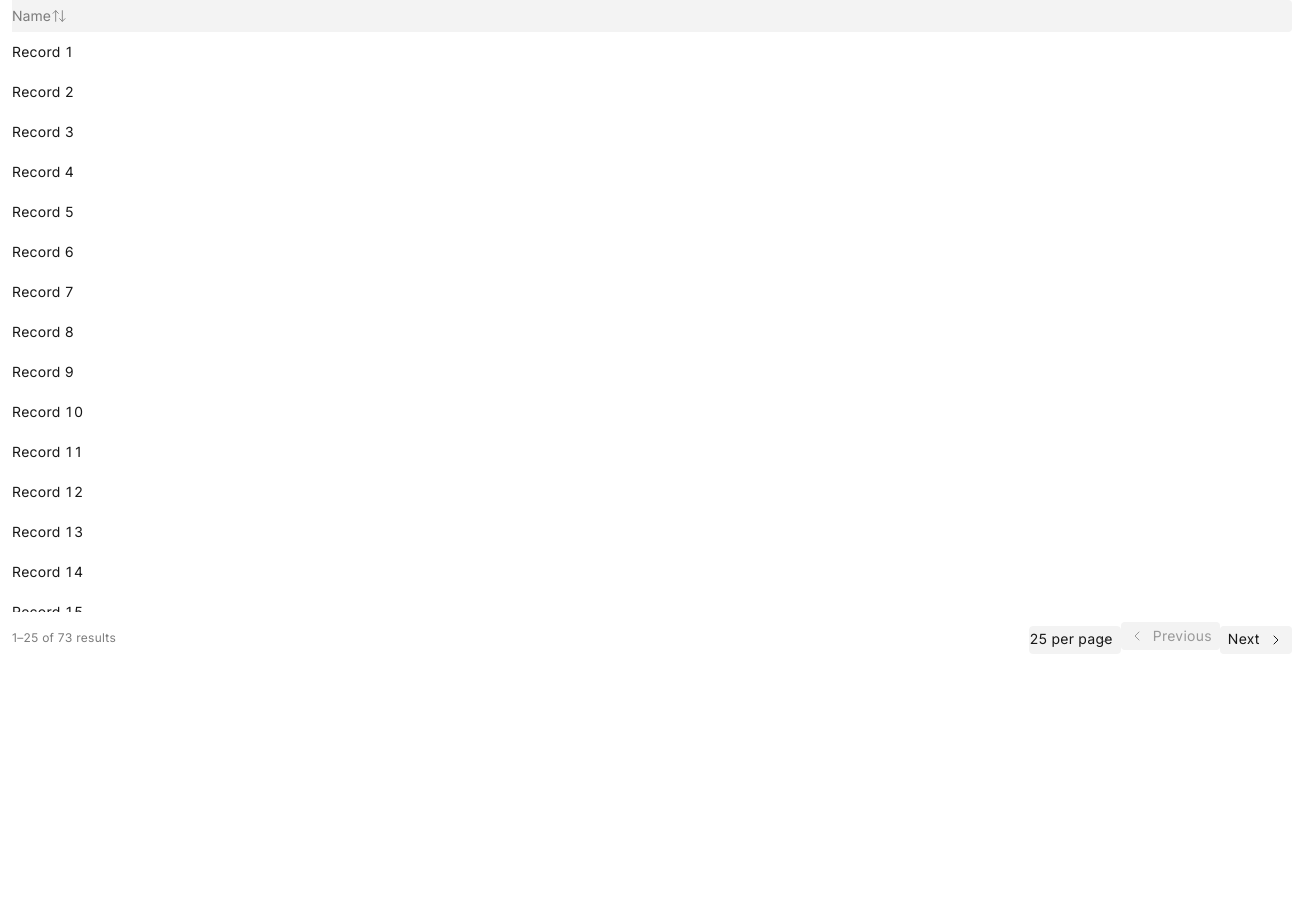
Test: large resource tables › bounds local rows, navigates without losing records and resets on size change
Expected: the text "1–25 of 73 results" is shown, [12,630,116,646]
Click the button "Next" at (1256, 640), box [1220,626,1292,654]
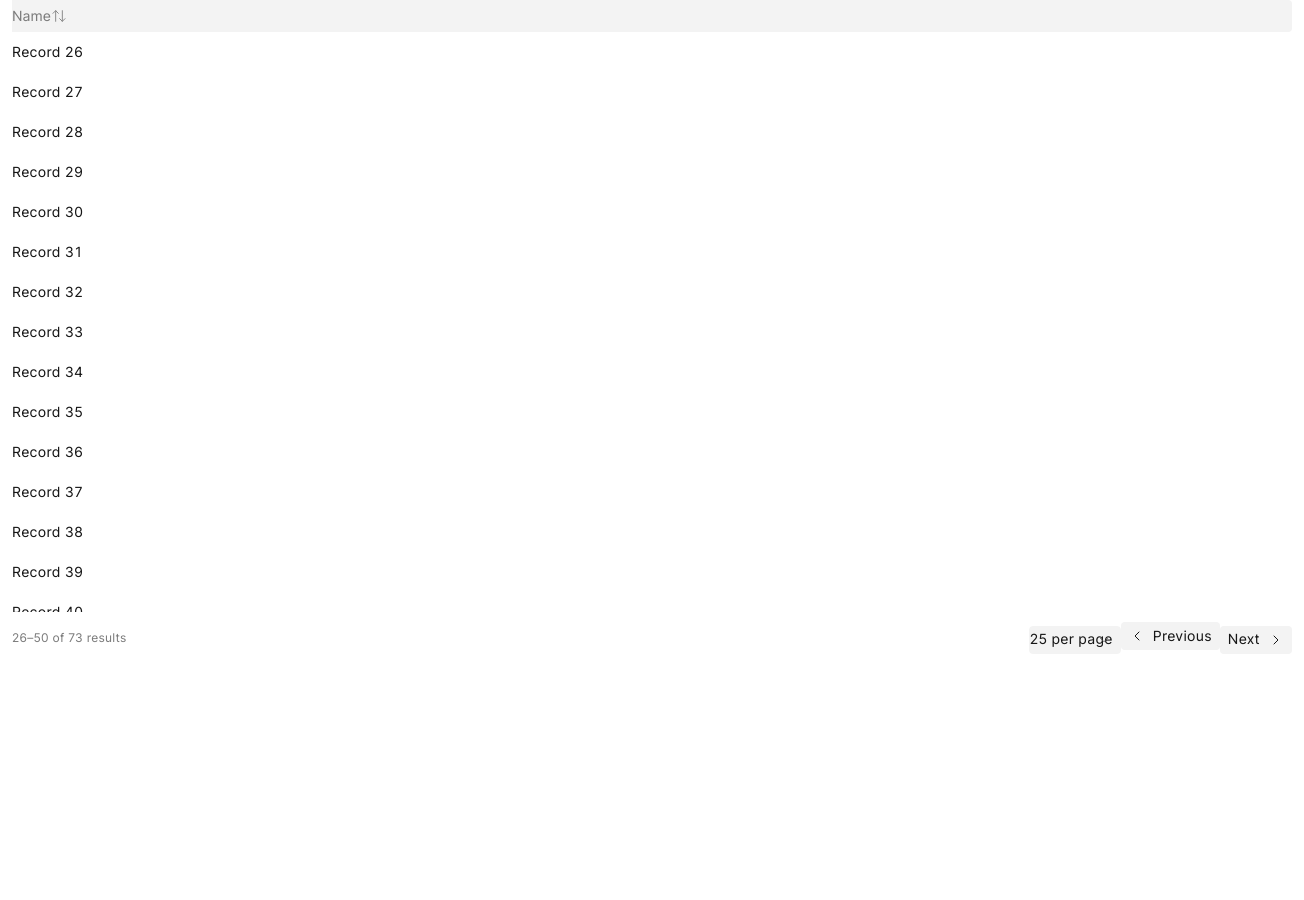
Expected: the text "26–50 of 73 results" is shown, [12,630,127,646]
Select "100 per page" in the dropdown named "Resources rows per page" at (1075, 640), box [1029,626,1121,654]
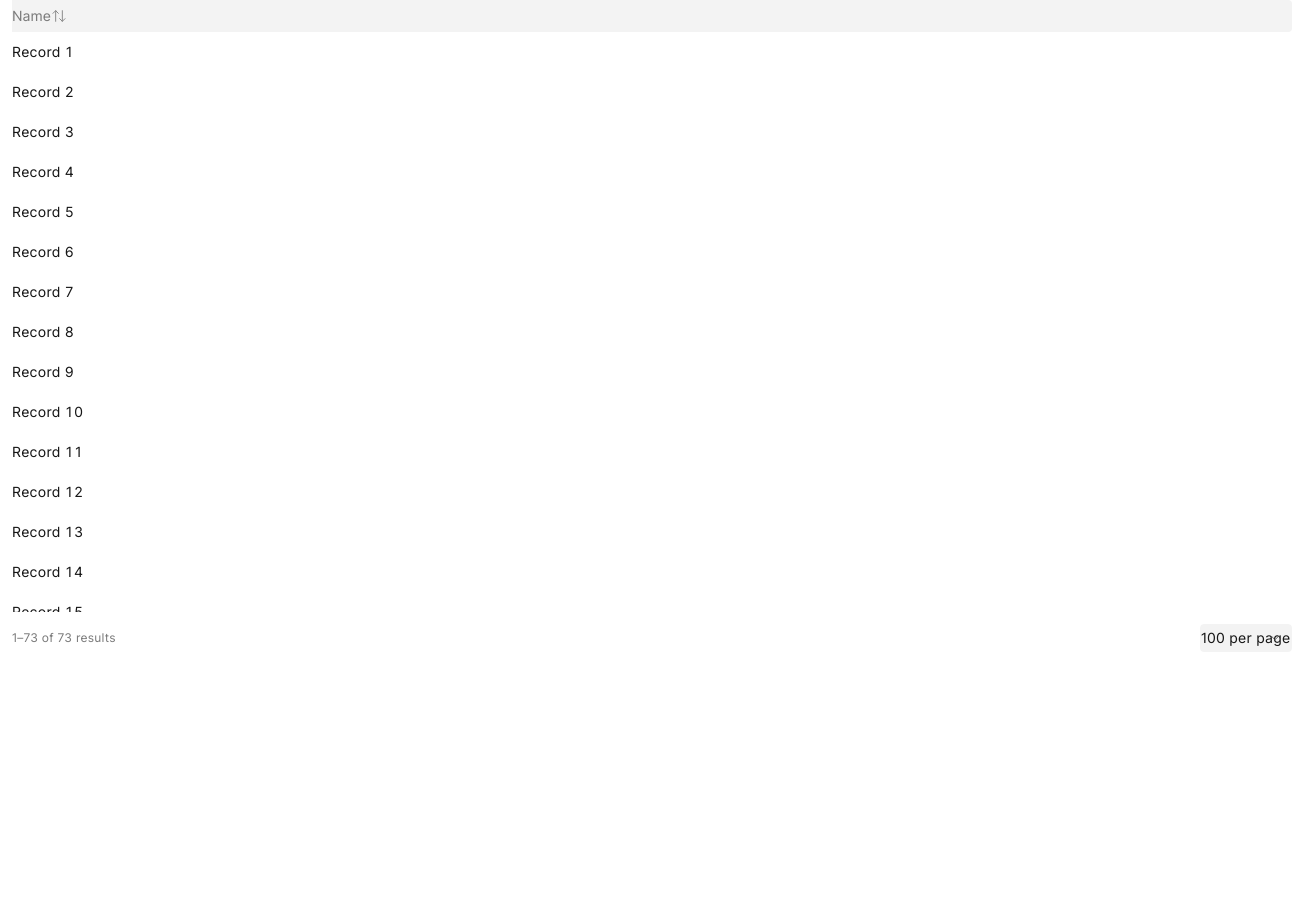
Expected: the text "1–73 of 73 results" is shown, [12,630,116,646]
